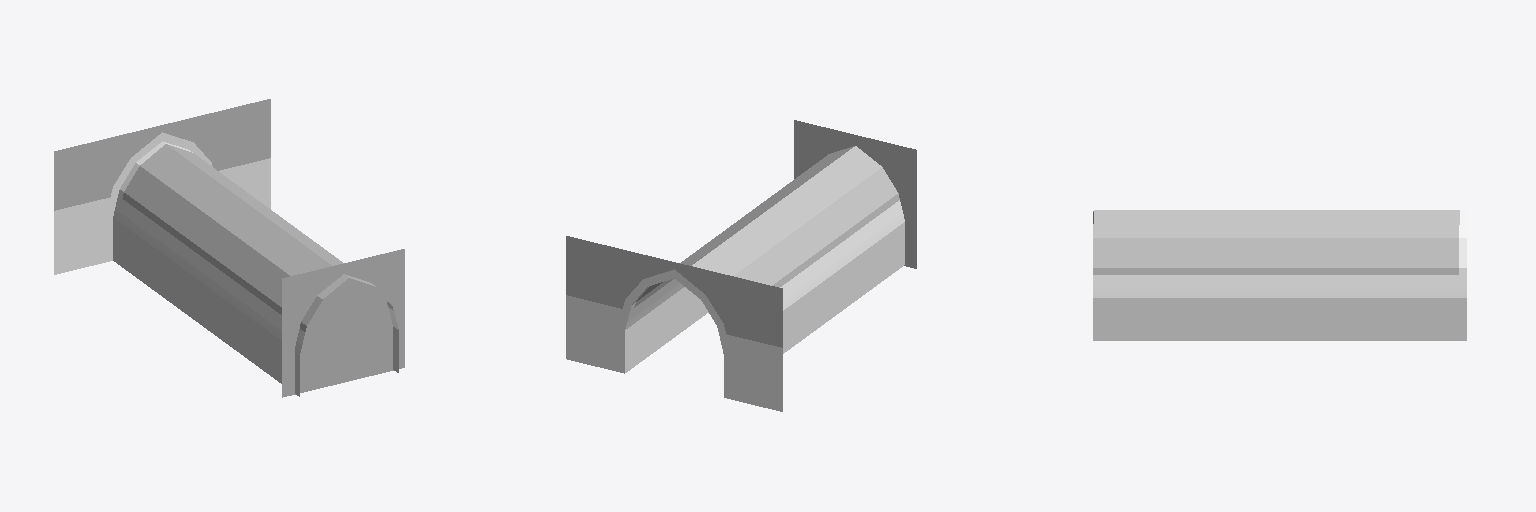
The model's file is ArchWall_01.obj.
The picture shows the model from 3 angles: view 1: azimuth 30°, elevation 25°; view 2: azimuth 150°, elevation 25°; view 3: azimuth 270°, elevation 25°; orthographic projection.
Parts seen in each view (by area): view 1: Arch__32_.003_Scene.007; view 2: Arch__32_.003_Scene.007; view 3: Arch__32_.003_Scene.007.
Boxes of the visible parts, x1=… form: Arch__32_.003_Scene.007: x1=54, y1=99, x2=404, y2=397; Arch__32_.003_Scene.007: x1=566, y1=120, x2=916, y2=411; Arch__32_.003_Scene.007: x1=1093, y1=210, x2=1466, y2=340.
Bounding box in the file's own units: 11 × 6.06 × 16.46.